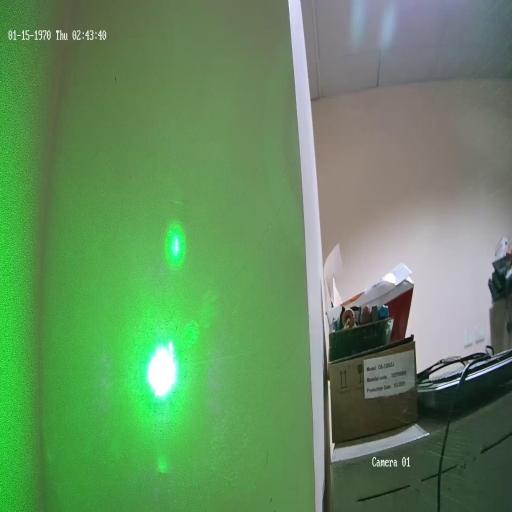laser: (141, 328, 180, 408)
